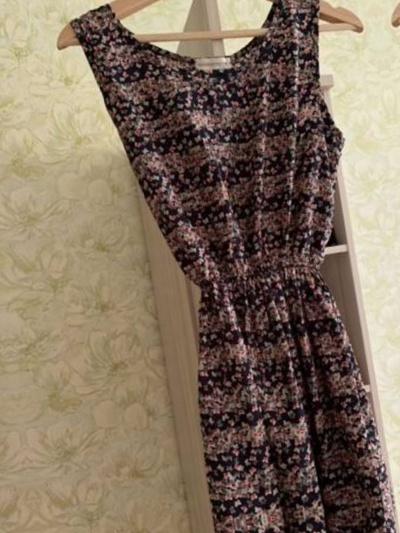Dress: (41, 0, 400, 533), (125, 500, 400, 533)
